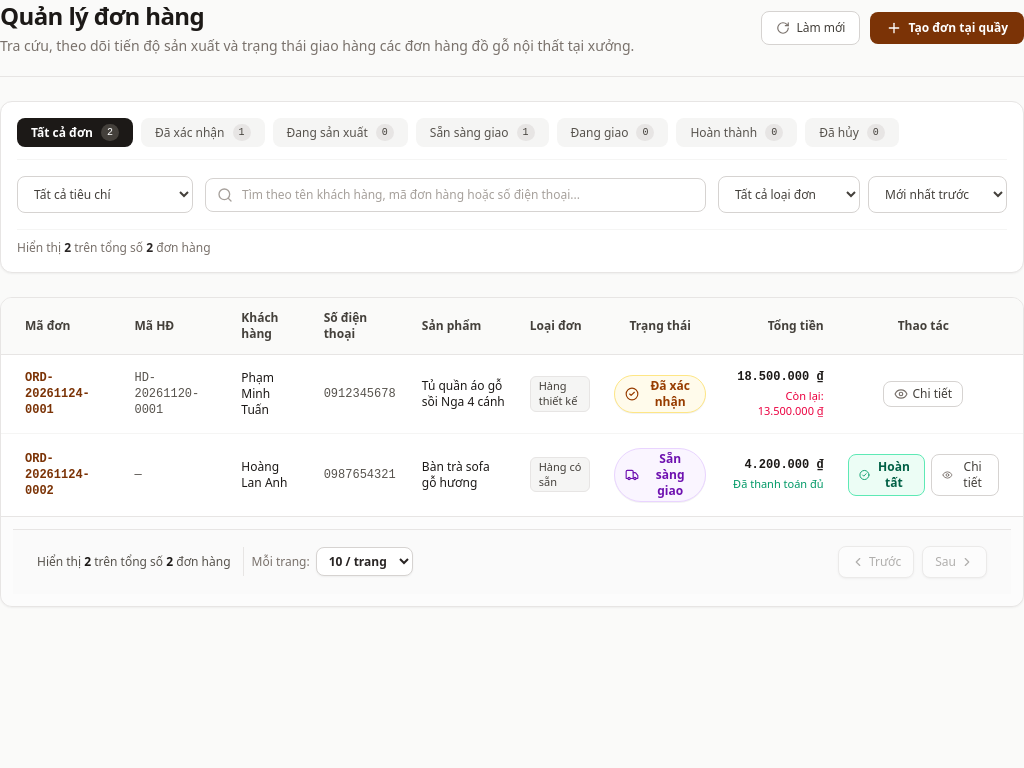
Test case: OrdersPage Component › opens detail modal on clicking Chi tiết
Expected: the text "ORD-20261124-0001" is shown, [1,355,122,433]
Click the button "Chi tiết" in the row of "ORD-20261124-0001" at (923, 394), box [883,381,963,407]
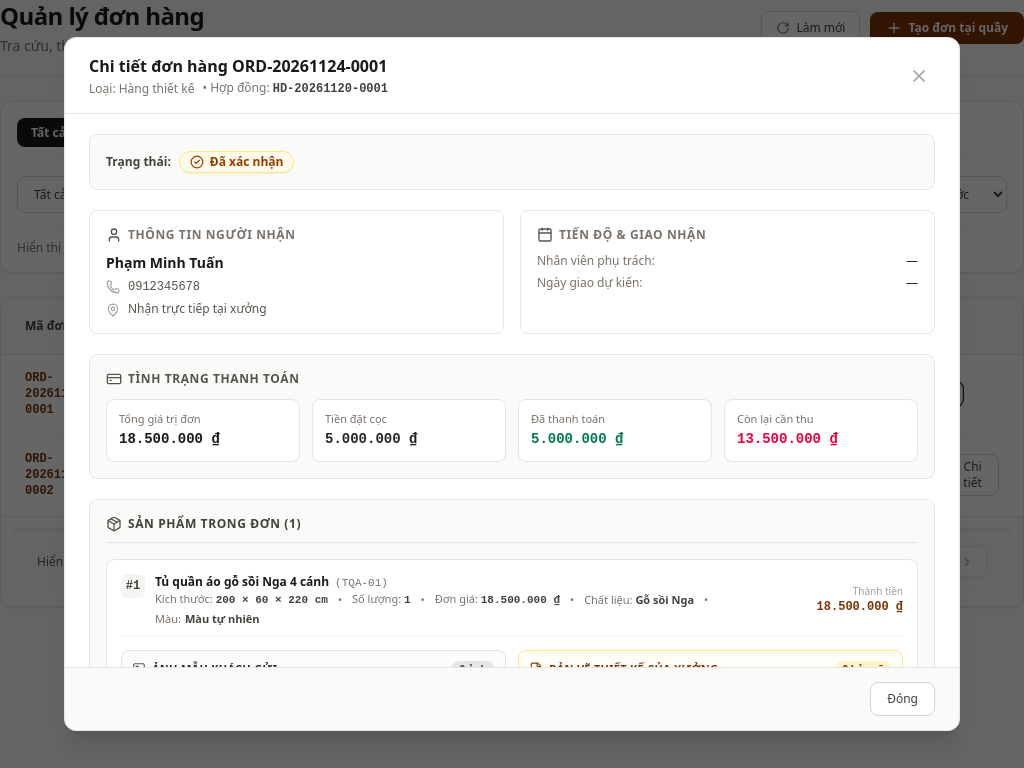
Expected: the text "Tủ quần áo gỗ sồi Nga 4 cánh" is shown, [410,355,518,433]
Expected: the heading "Chi tiết đơn hàng ORD-20261124-0001" is shown, [89,54,388,78]
Expected: the heading "Tình trạng thanh toán" is shown, [106,370,300,387]
